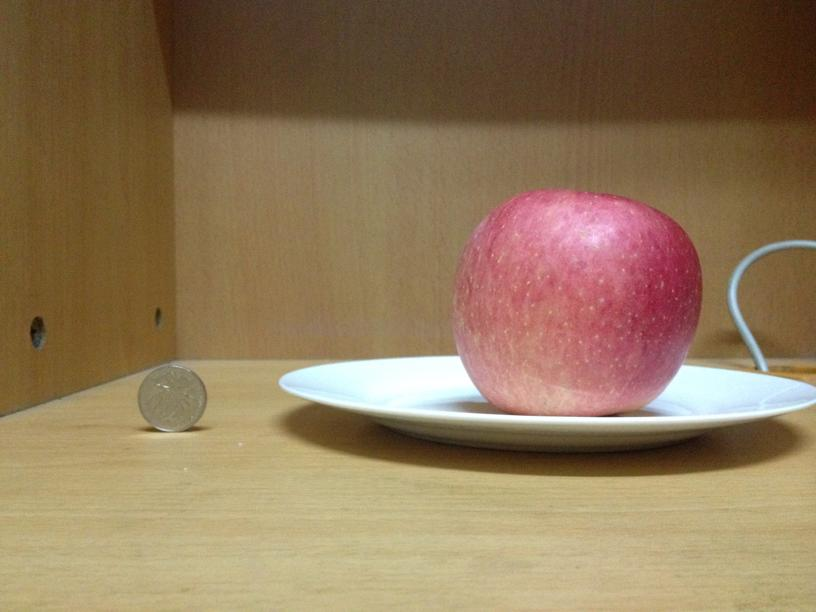apple: (451, 186, 704, 414)
coin: (134, 365, 207, 432)
